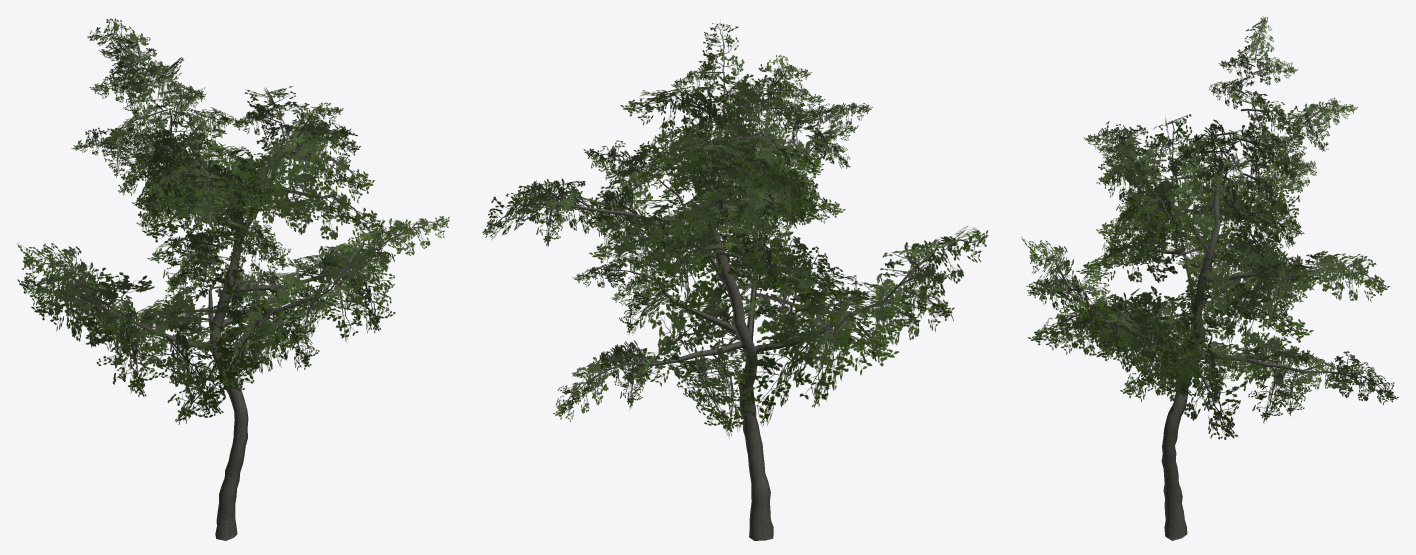
Rendered from TreeMedium.glb.
3 renders of one model, left to right at view 1: azimuth 30°, elevation 25°; view 2: azimuth 150°, elevation 25°; view 3: azimuth 270°, elevation 25°, orthographic. The views are drawn at different scales.
Visible parts, largest first — view 1: Medium_oak_tree__001_LOD1_Cluster_Mat_0, Medium_oak_tree__001_LOD1_Bark_Mat_0; view 2: Medium_oak_tree__001_LOD1_Cluster_Mat_0, Medium_oak_tree__001_LOD1_Bark_Mat_0; view 3: Medium_oak_tree__001_LOD1_Cluster_Mat_0, Medium_oak_tree__001_LOD1_Bark_Mat_0.
Boxes of the visible parts, x1,y1,x2,y2 form: Medium_oak_tree__001_LOD1_Cluster_Mat_0: (17, 18, 449, 424); Medium_oak_tree__001_LOD1_Bark_Mat_0: (88, 123, 384, 540); Medium_oak_tree__001_LOD1_Cluster_Mat_0: (482, 21, 988, 438); Medium_oak_tree__001_LOD1_Bark_Mat_0: (556, 73, 902, 540); Medium_oak_tree__001_LOD1_Cluster_Mat_0: (1021, 15, 1398, 439); Medium_oak_tree__001_LOD1_Bark_Mat_0: (1068, 163, 1325, 540).
Bounding box in the file's own units: 8.89 × 10.54 × 7.46.
Materials: 2 (2 with a texture image).
